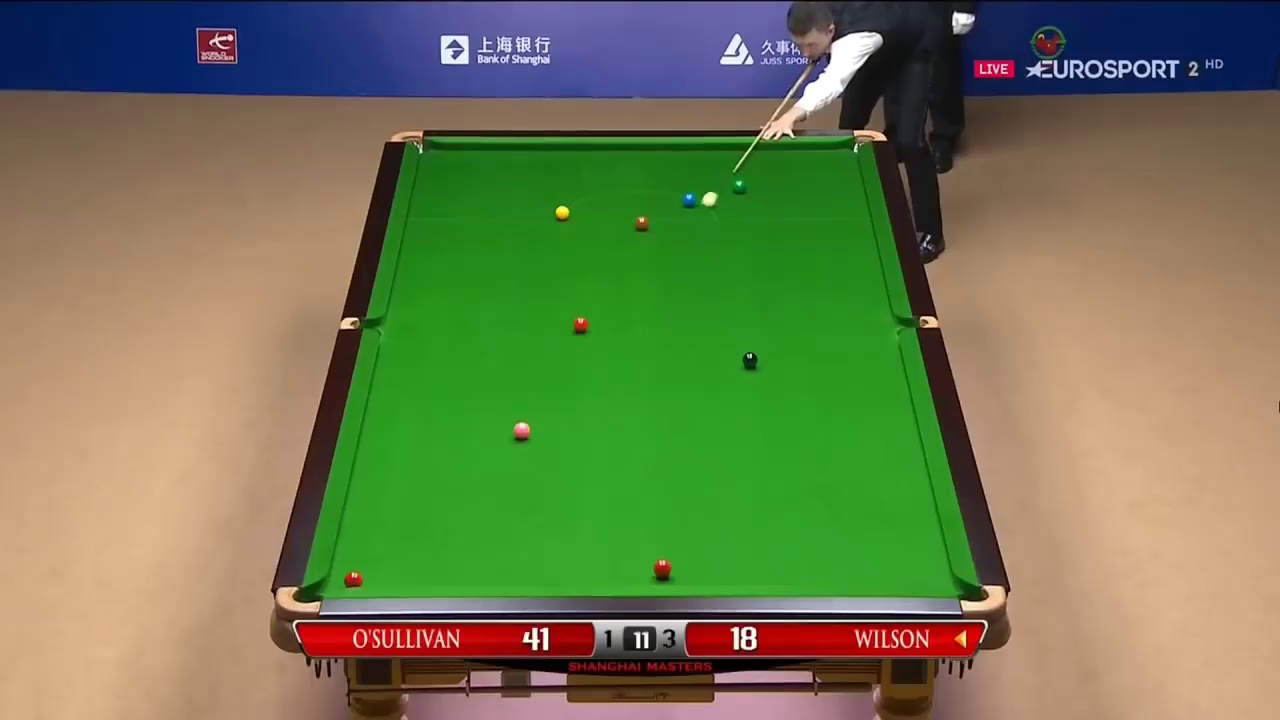black: (742, 352, 758, 368)
blue: (682, 192, 693, 207)
brown: (635, 214, 648, 230)
green: (732, 177, 746, 191)
pink: (513, 422, 532, 440)
red: (654, 560, 673, 579), (572, 315, 590, 334)
white: (702, 191, 720, 206)
yellow: (556, 206, 569, 219)
